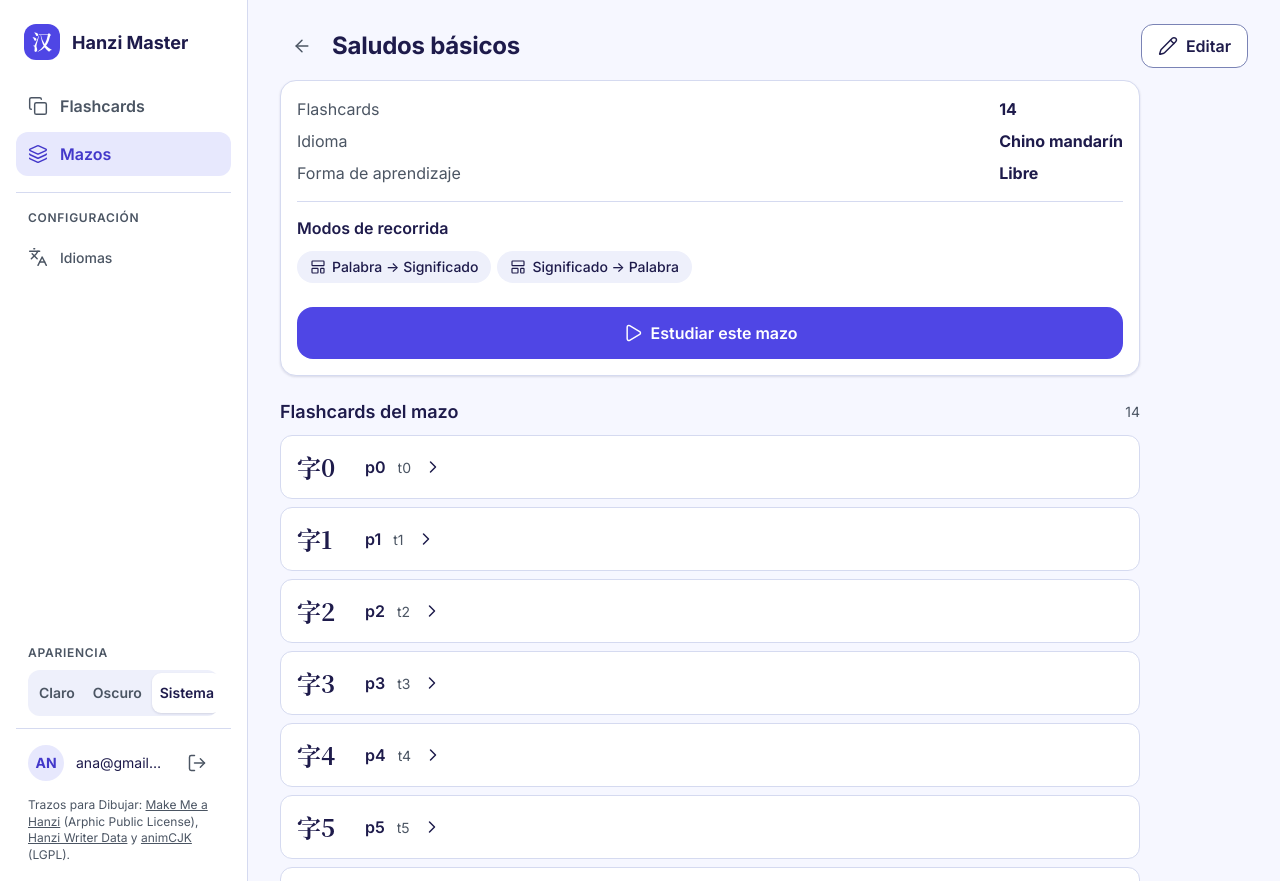
Scenario: M04 · Elegir modo de recorrida › M04-3 Cancelar o Esc cierran el diálogo sin iniciar nada
expect the element named "Resumen del mazo" is shown: met, box [280,80,1140,376]
Click the button "Estudiar este mazo" at (710, 333), box [297,307,1123,359]
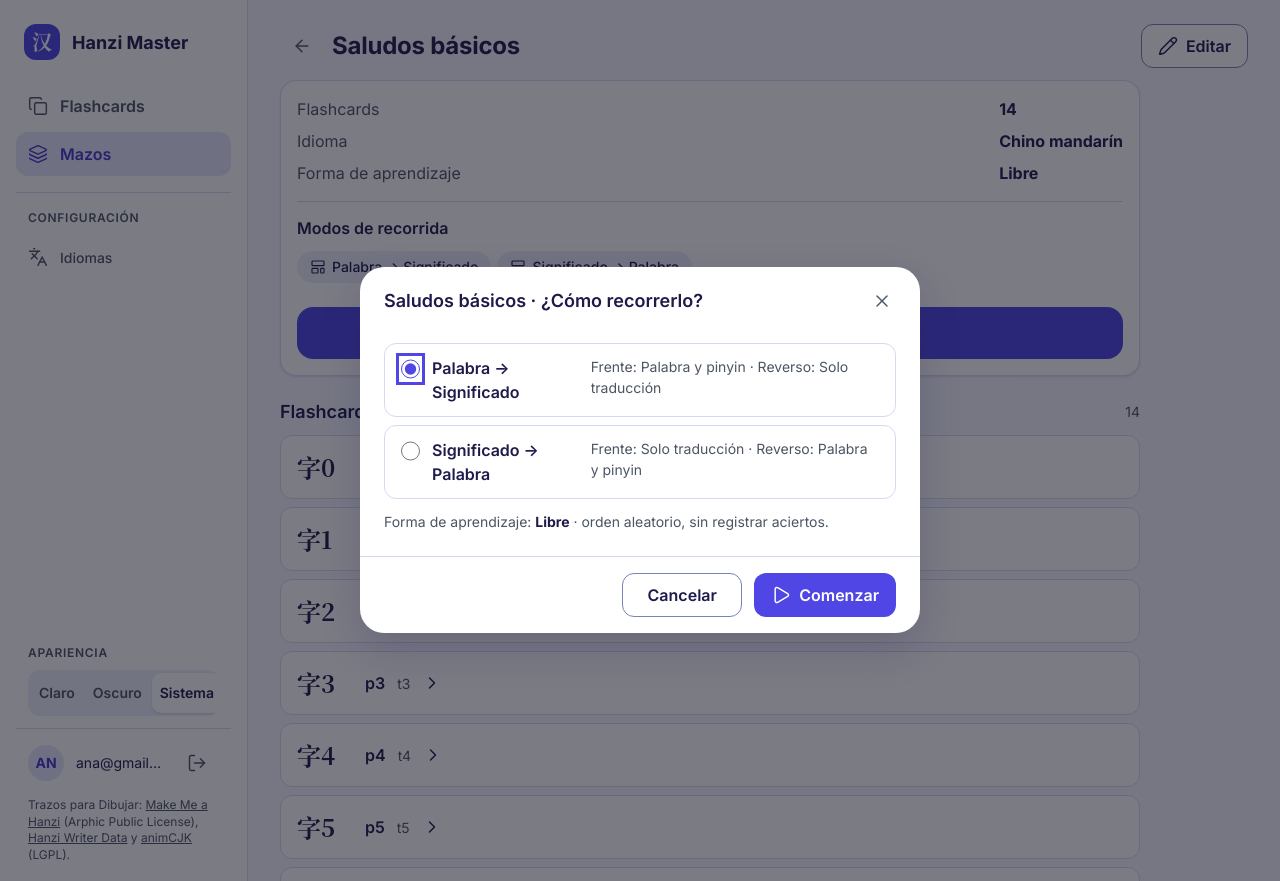
Click the button "Cancelar" at (682, 595), box [622,573,742,617]
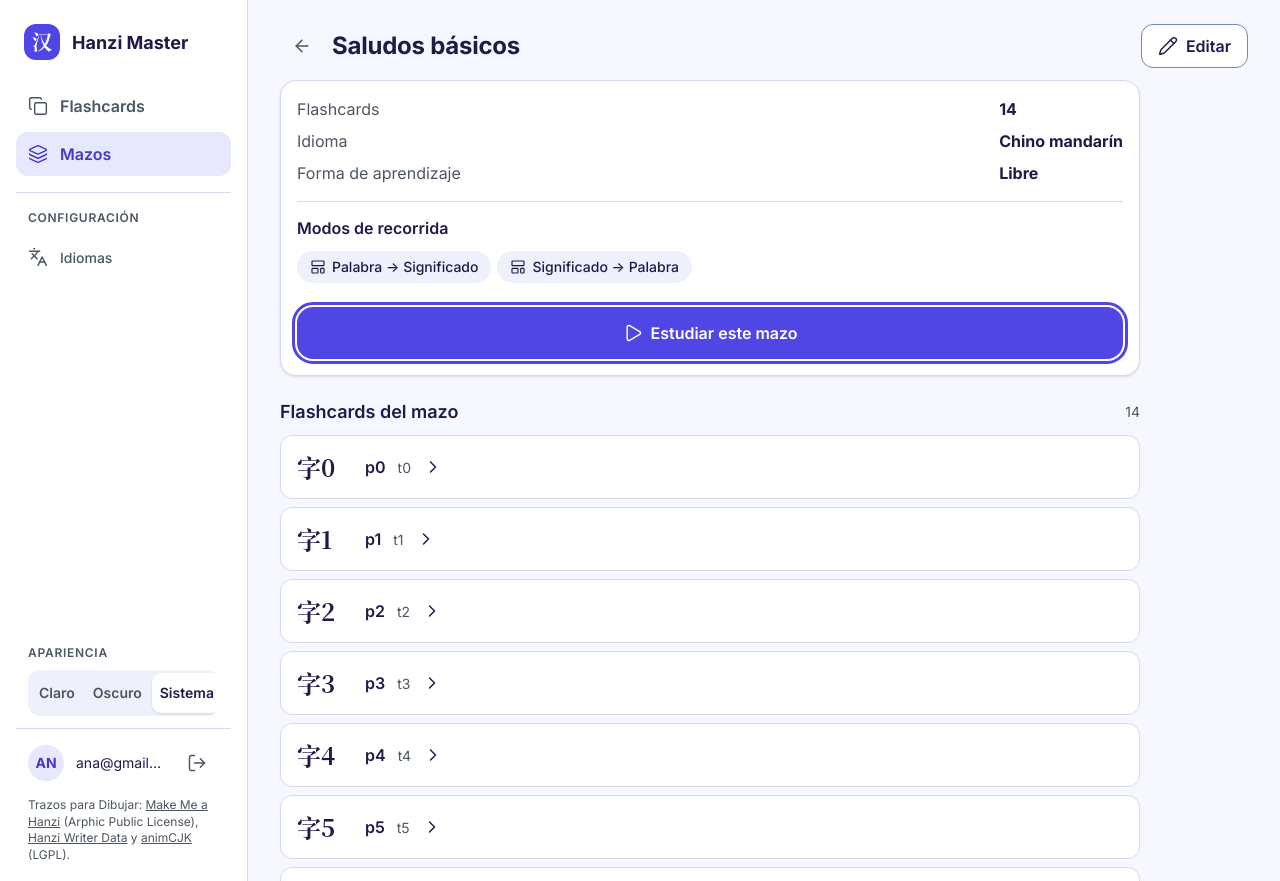
expect the dialog is gone: met
Click the button "Estudiar este mazo" at (710, 333), box [297,307,1123,359]
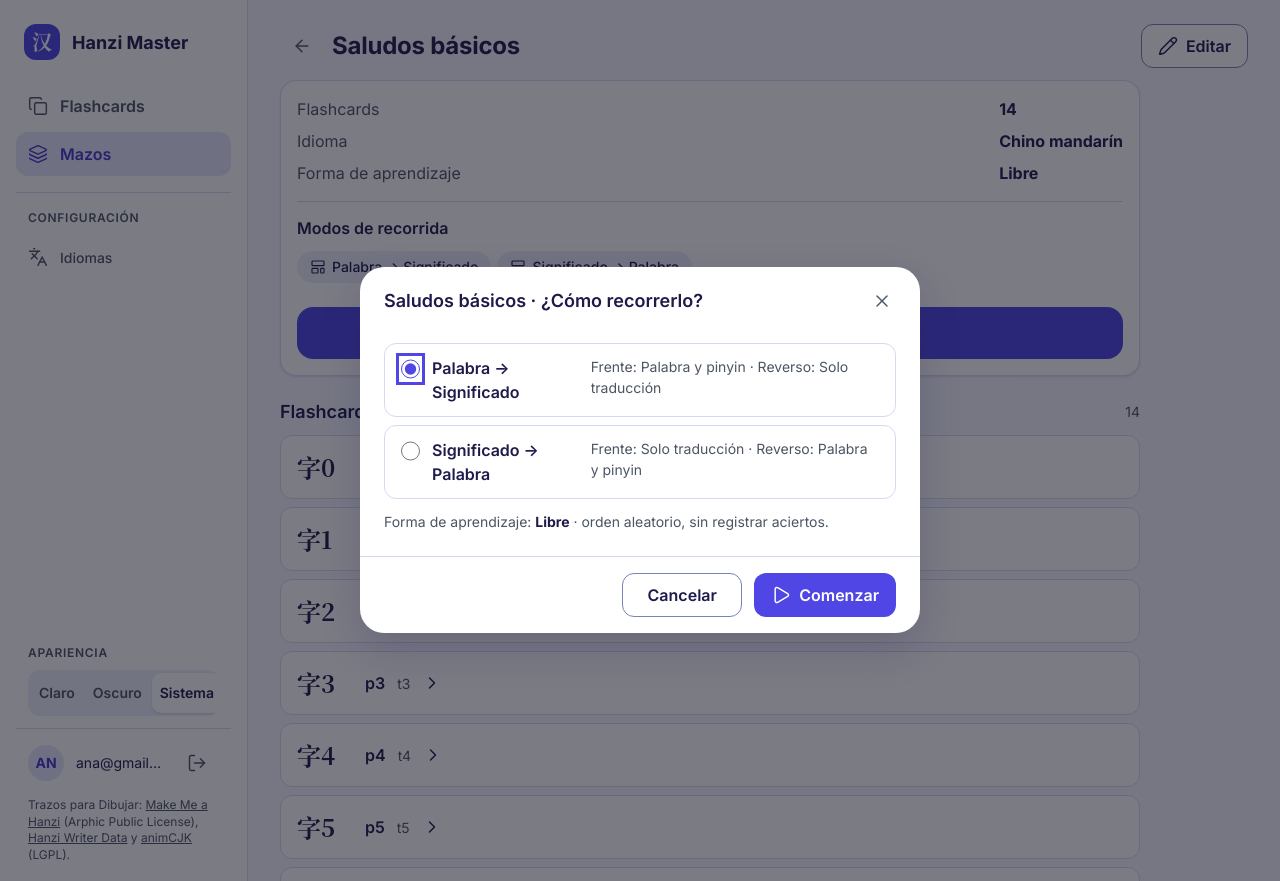
Press Escape
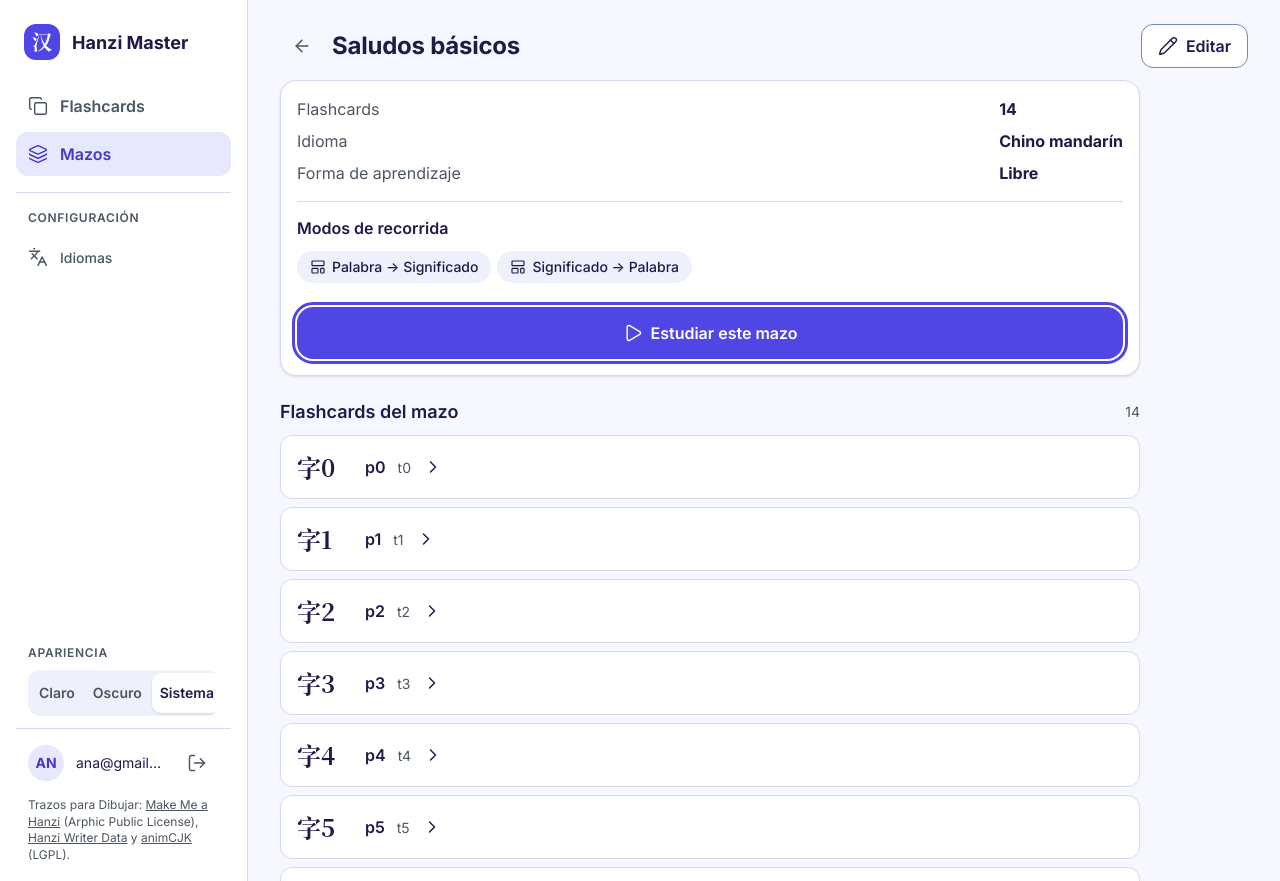
expect the dialog is gone: met
